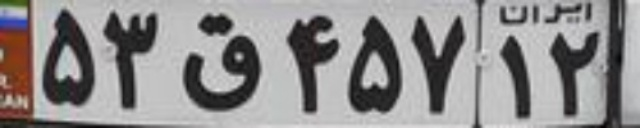1: (498, 33, 531, 118)
2: (549, 29, 596, 116)
3: (104, 8, 163, 109)
4: (286, 15, 342, 114)
5: (40, 5, 101, 106), (347, 14, 403, 113)
7: (408, 14, 471, 115)
ghaf: (180, 10, 262, 112)
